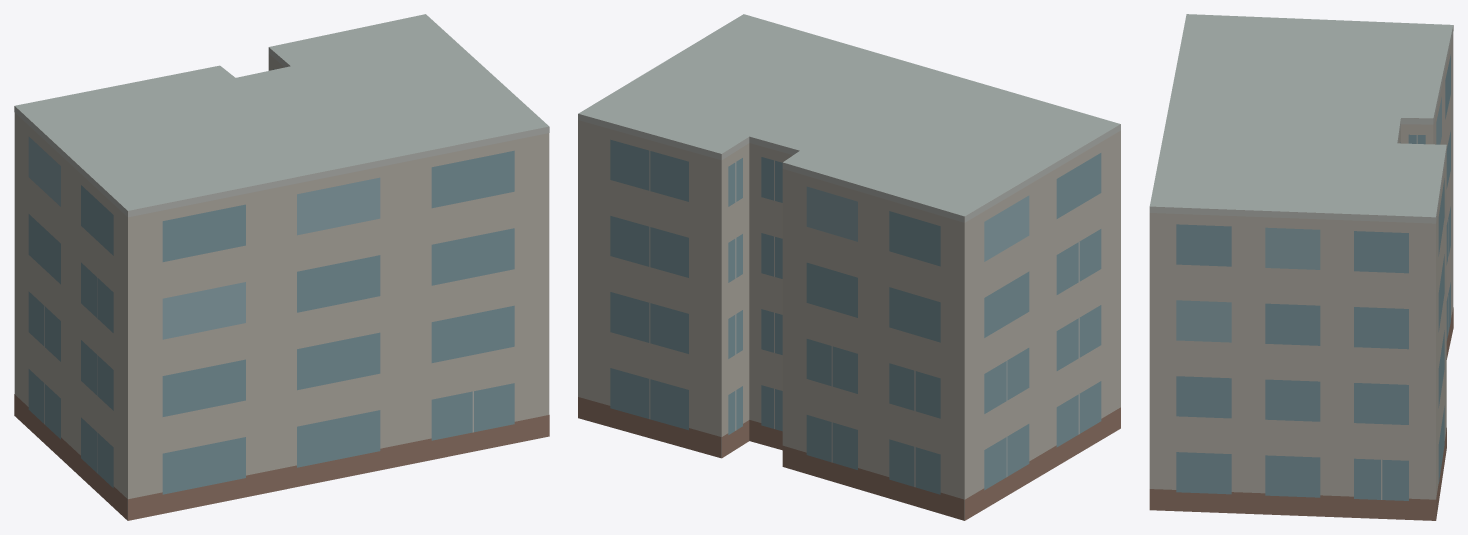
Rendered from survey-upis-32670743.glb.
The picture shows the model from 3 angles, left to right: view 1: azimuth 30°, elevation 25°; view 2: azimuth 150°, elevation 25°; view 3: azimuth 270°, elevation 25°; orthographic projection. The views are drawn at different scales.
Parts seen in each view (by area): view 1: survey-upis-32670743.tmp; view 2: survey-upis-32670743.tmp; view 3: survey-upis-32670743.tmp.
Boxes of the visible parts, x1,y1,x2,y2 form: survey-upis-32670743.tmp: (14, 14, 549, 520); survey-upis-32670743.tmp: (578, 14, 1120, 520); survey-upis-32670743.tmp: (1149, 14, 1453, 520).
Size of the model in its own units: 16.81 by 11.7 by 10.62.
